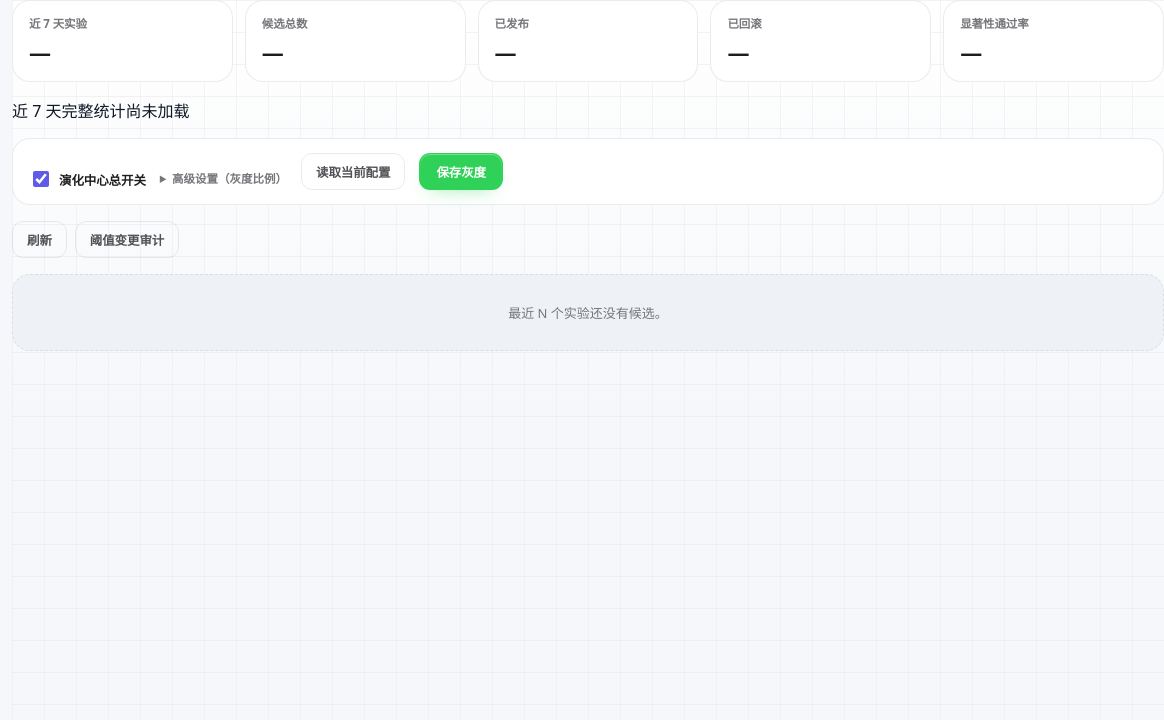
Test: EvolutionCenterTab › 点按钮加载阈值变更审计日志并渲染行
The width and height of the screenshot is (1164, 720).
Click the button "阈值变更审计".
click(127, 240)  # box [75, 221, 179, 258]
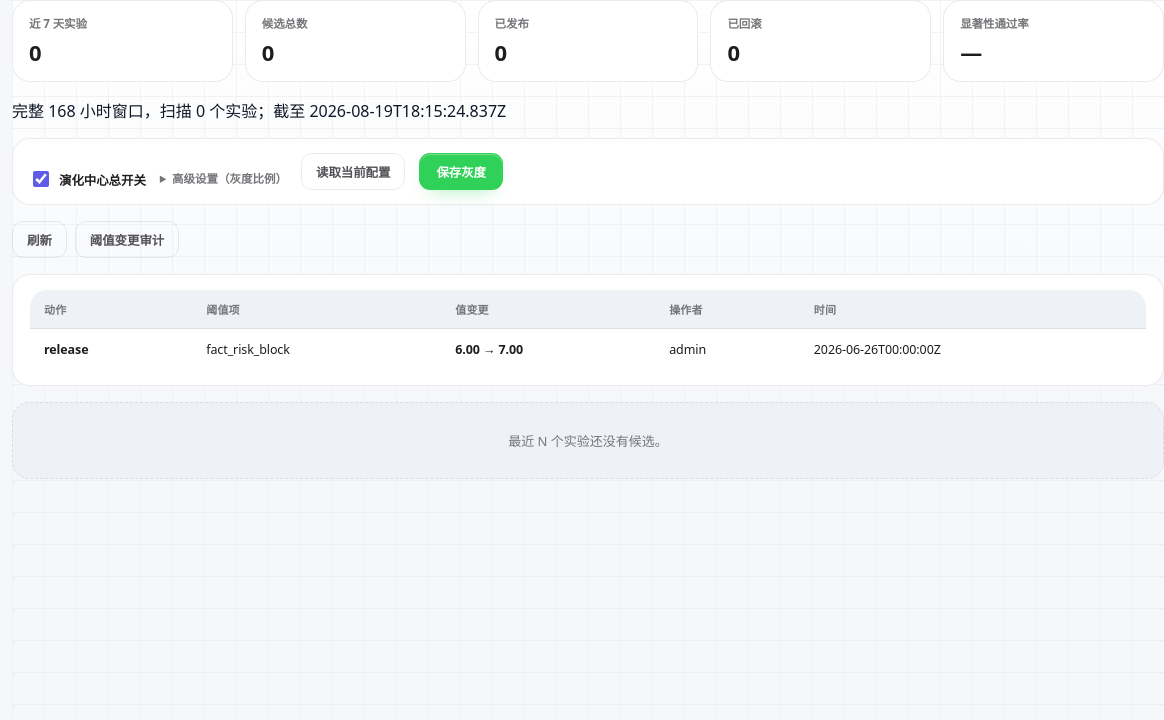
Now the table with test id "threshold-audit-table" is shown, box [29, 289, 1147, 371]
Now the table with test id "threshold-audit-table" shows "fact_risk_block", box [206, 341, 290, 358]
Now the table with test id "threshold-audit-table" shows "release", box [44, 341, 88, 358]
